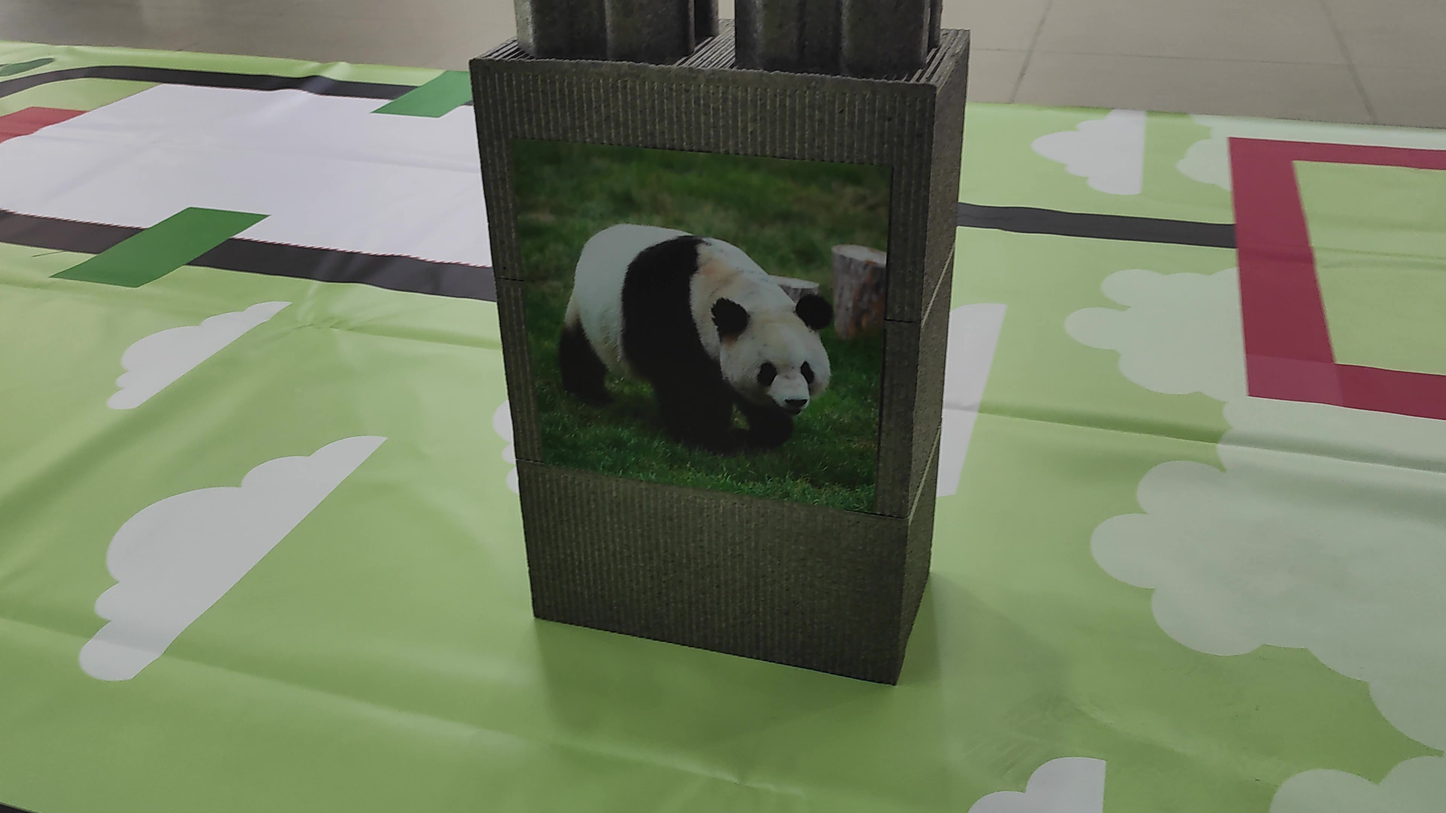panda: (520, 194, 864, 477)
